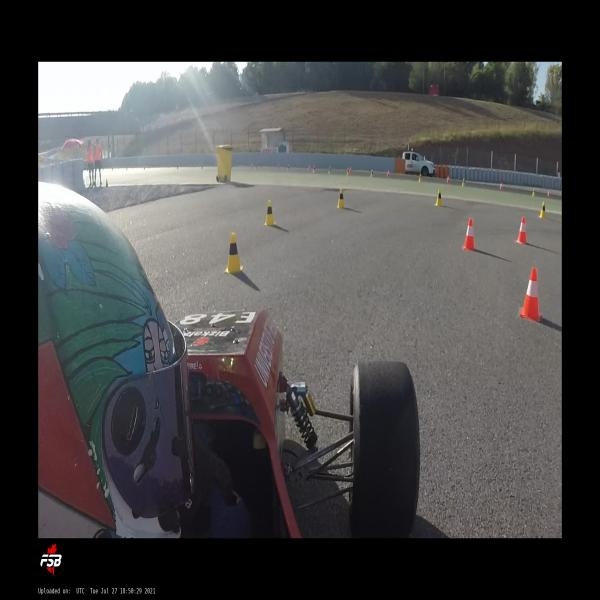orange_cone: (519, 267, 542, 323), (462, 218, 475, 251), (516, 216, 526, 244), (446, 174, 450, 184), (499, 182, 503, 190), (547, 189, 550, 197), (387, 169, 389, 177), (349, 166, 351, 172)
yellow_cone: (224, 232, 243, 274), (264, 200, 276, 226), (337, 188, 345, 209), (538, 201, 546, 219), (434, 190, 442, 206), (418, 173, 422, 183), (370, 168, 374, 178), (461, 178, 465, 187), (346, 167, 350, 176), (328, 166, 332, 175), (532, 188, 535, 197)
